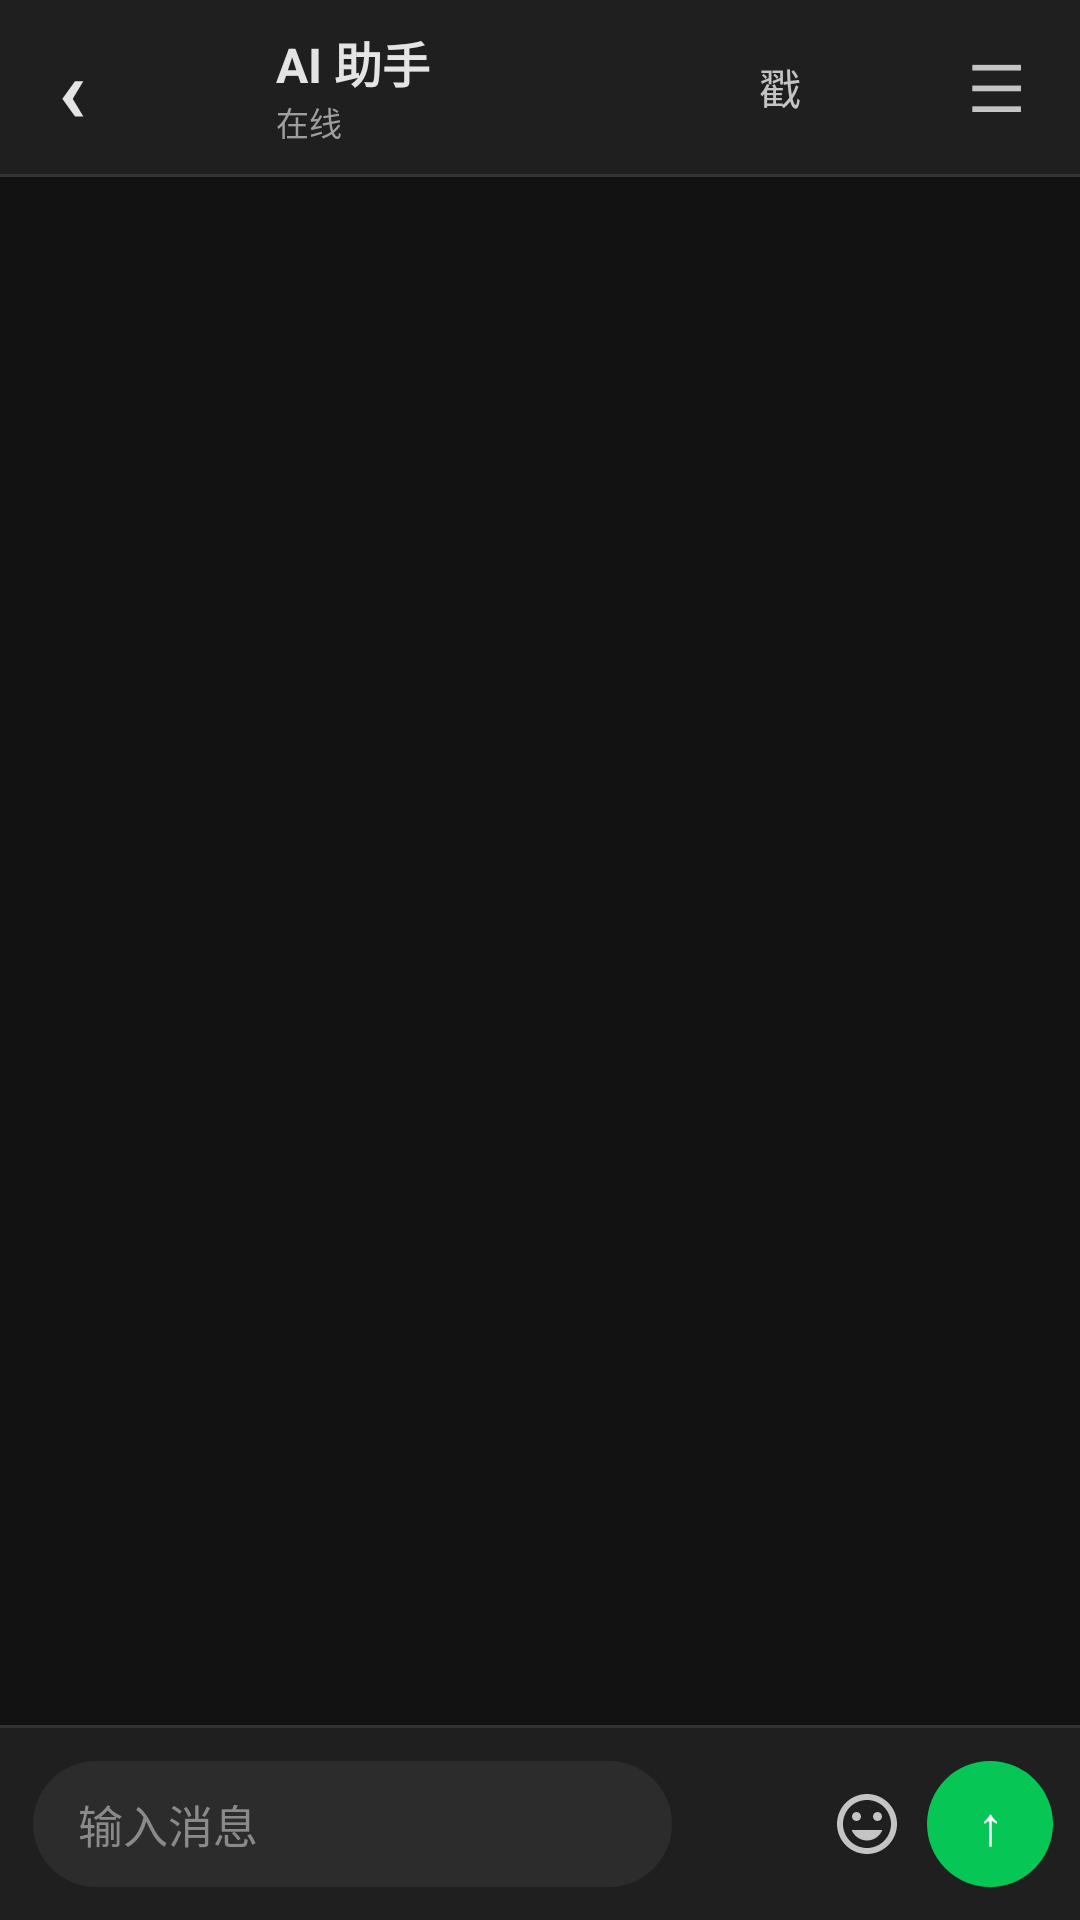

Screen size 1080px x 1920px. Icon name, then its box in pixels as (x1, y1, x2, y2):
表情: (837, 1794, 897, 1854)
